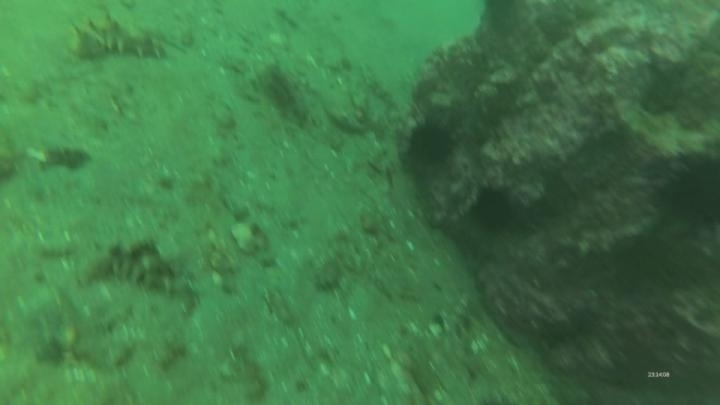echinus: (653, 145, 720, 238), (405, 117, 458, 170), (469, 183, 520, 235)
holothurian: (73, 236, 195, 299), (64, 12, 175, 65)
